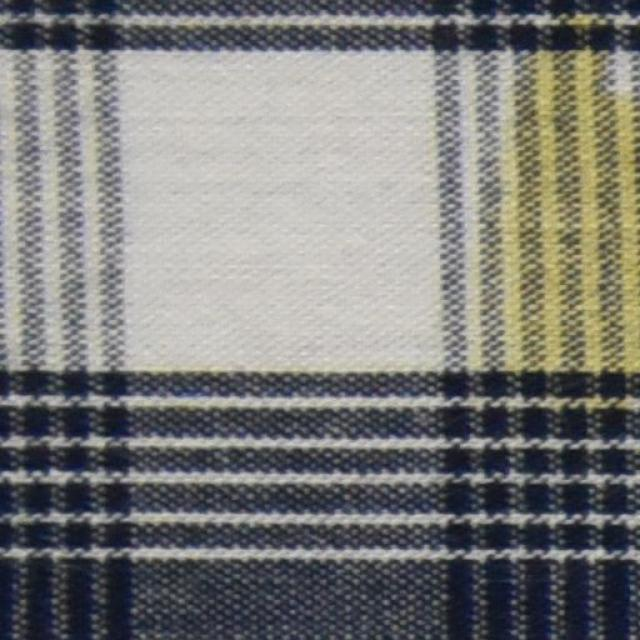Stain: (462, 22, 639, 423)
